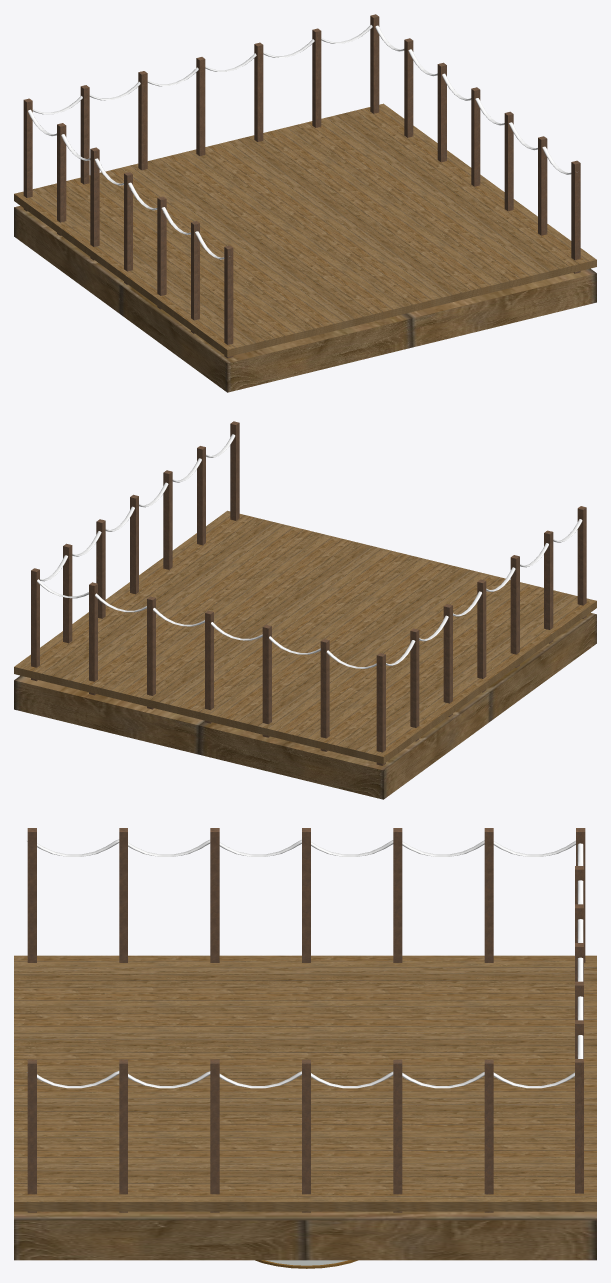
3 renders of one model, top to bottom at view 1: azimuth 30°, elevation 25°; view 2: azimuth 150°, elevation 25°; view 3: azimuth 270°, elevation 25°, orthographic. The views are drawn at different scales.
Parts seen in each view (by area): view 1: Base, Pillar 1.002, Sides Ribbon; view 2: Base, Pillar 1.002, Sides Ribbon; view 3: Base, Pillar 1.002, Sides Ribbon, Cake.
Part boxes in pixels (bbox=[...]): Base: bbox=[14, 103, 596, 392]; Pillar 1.002: bbox=[23, 14, 580, 358]; Sides Ribbon: bbox=[28, 25, 577, 259]; Base: bbox=[14, 510, 596, 799]; Pillar 1.002: bbox=[31, 421, 586, 765]; Sides Ribbon: bbox=[37, 434, 582, 668]; Base: bbox=[14, 955, 596, 1260]; Pillar 1.002: bbox=[27, 828, 585, 1212]; Sides Ribbon: bbox=[27, 839, 583, 1088]; Cake: bbox=[255, 1260, 357, 1268].
Bounding box in the file's own units: 19.6 × 10.6 × 19.6.
6 materials, 6 textured.
